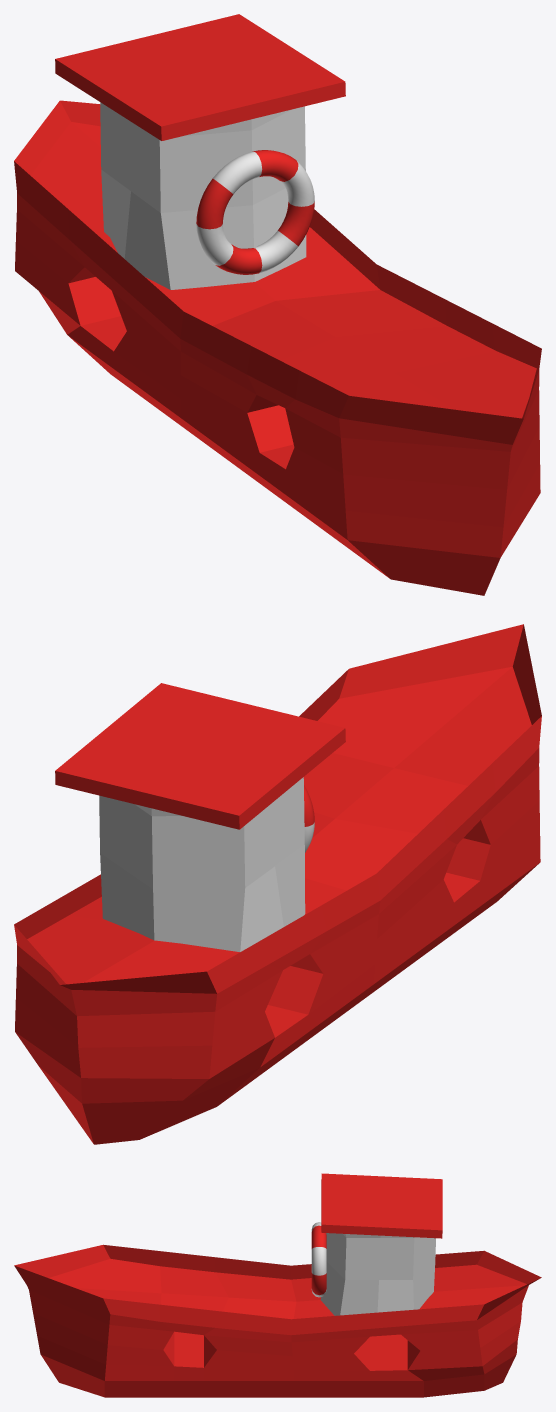
File: SM_Boat.fbx
3 renders of one model, top to bottom at view 1: azimuth 30°, elevation 25°; view 2: azimuth 150°, elevation 25°; view 3: azimuth 270°, elevation 25°, orthographic. The views are drawn at different scales.
Parts seen in each view (by area): view 1: Cube.012, Cube.013, Cube.014, Torus.001; view 2: Cube.012, Cube.013, Cube.014; view 3: Cube.012, Cube.013, Cube.014, Torus.001.
Boxes of the visible parts, x1,y1,x2,y2 form: Cube.012: [14, 100, 541, 595]; Cube.013: [100, 102, 306, 289]; Cube.014: [55, 14, 345, 140]; Torus.001: [196, 150, 314, 274]; Cube.012: [14, 624, 541, 1144]; Cube.013: [99, 777, 305, 951]; Cube.014: [55, 683, 345, 829]; Cube.012: [14, 1244, 541, 1397]; Cube.013: [320, 1233, 435, 1315]; Cube.014: [321, 1173, 442, 1238]; Torus.001: [311, 1222, 326, 1297].
Size of the model in its own units: 208 by 342 by 833.
